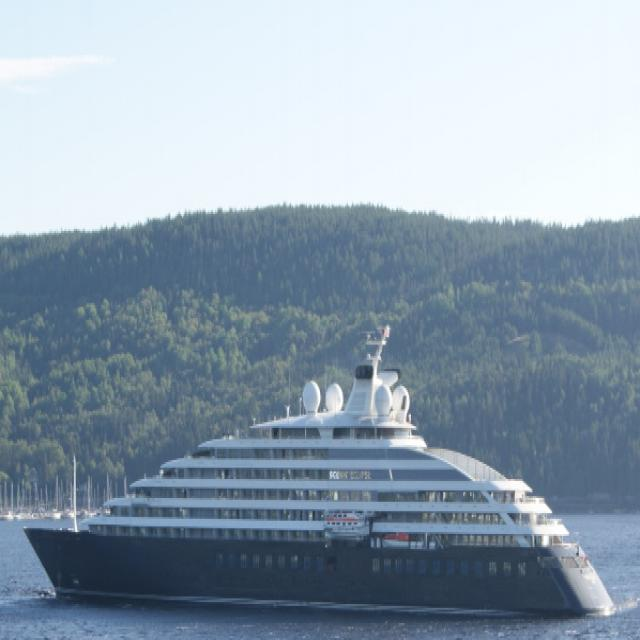cruises: (18, 308, 622, 632)
